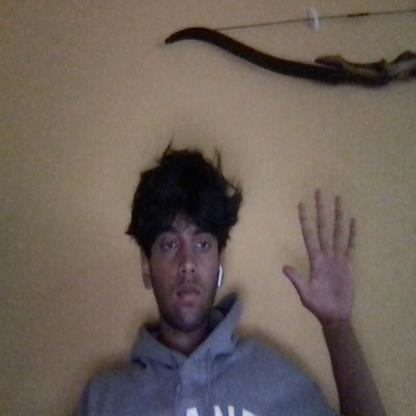palm: (265, 170, 377, 336)
